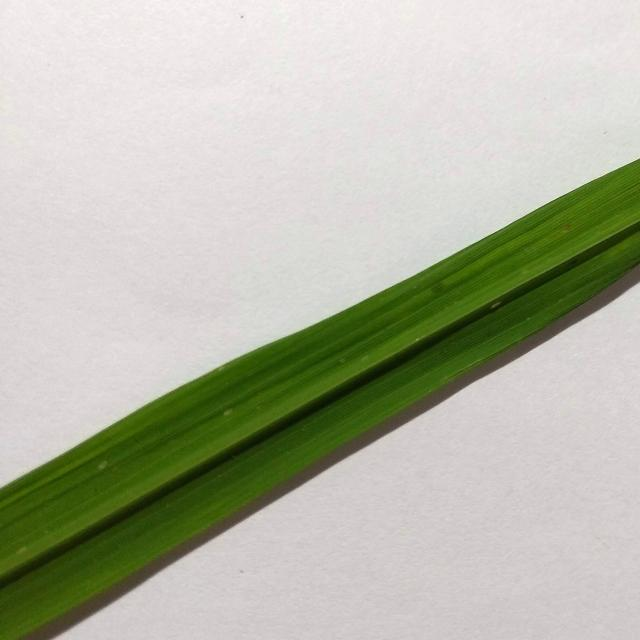Rice_Healthy: (0, 160, 640, 640)
